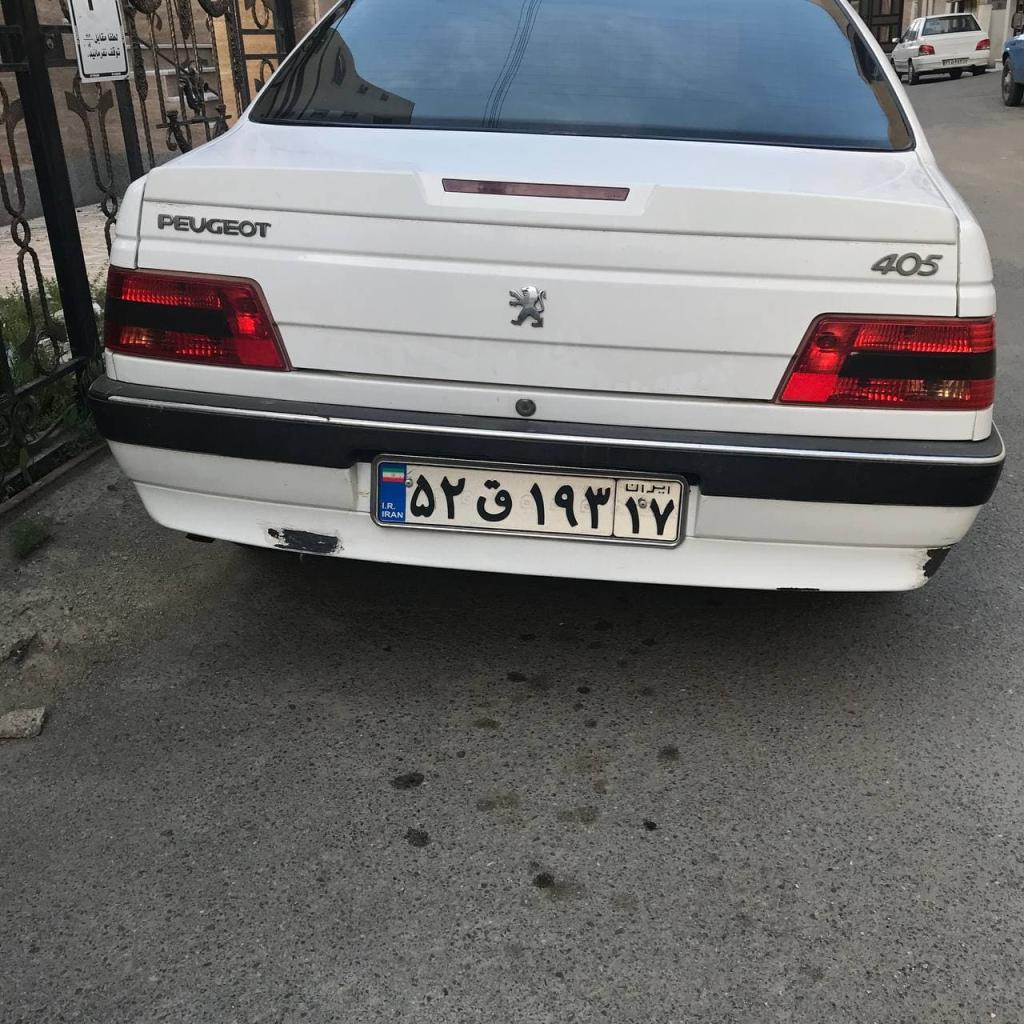Plates: (377, 461, 682, 541)
